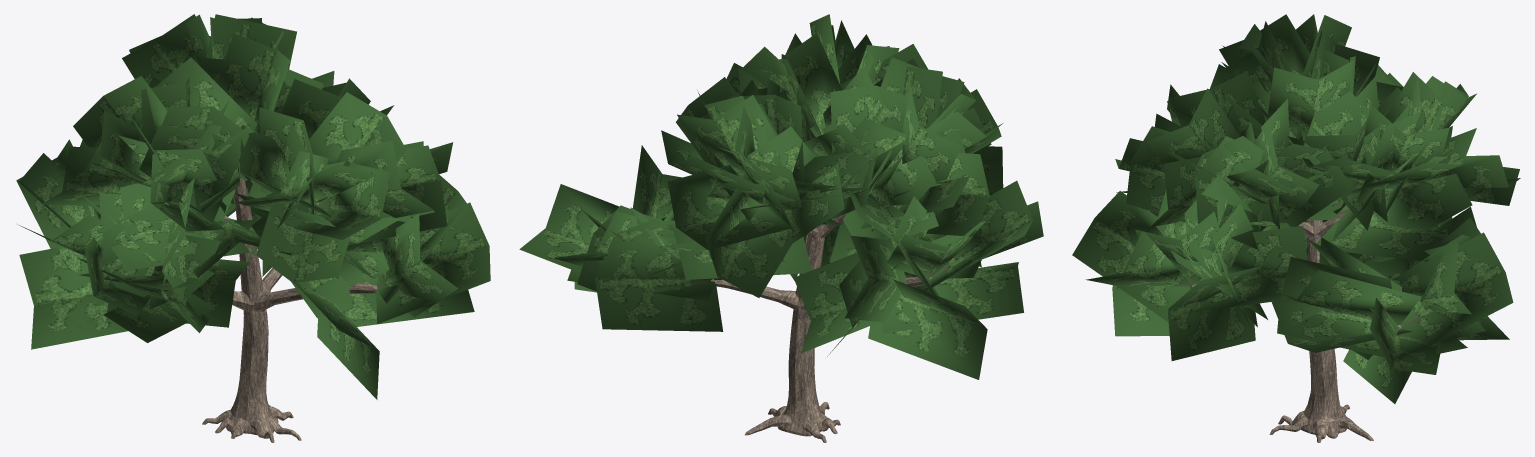
File: environment_elm1_v76.fbx
3 renders of one model, left to right at view 1: azimuth 30°, elevation 25°; view 2: azimuth 150°, elevation 25°; view 3: azimuth 270°, elevation 25°, orthographic. The views are drawn at different scales.
Visible parts, largest first — view 1: environment_elm1_v76_lod0; view 2: environment_elm1_v76_lod0; view 3: environment_elm1_v76_lod0.
Boxes of the visible parts, box(x1,y1,x2,y2) form: environment_elm1_v76_lod0: box(16, 14, 490, 442); environment_elm1_v76_lod0: box(519, 14, 1043, 442); environment_elm1_v76_lod0: box(1072, 14, 1520, 442).
Size of what is drawn, in the model's own units: 2930 by 2300 by 2558.
Materials: 2 (2 with a texture image).
